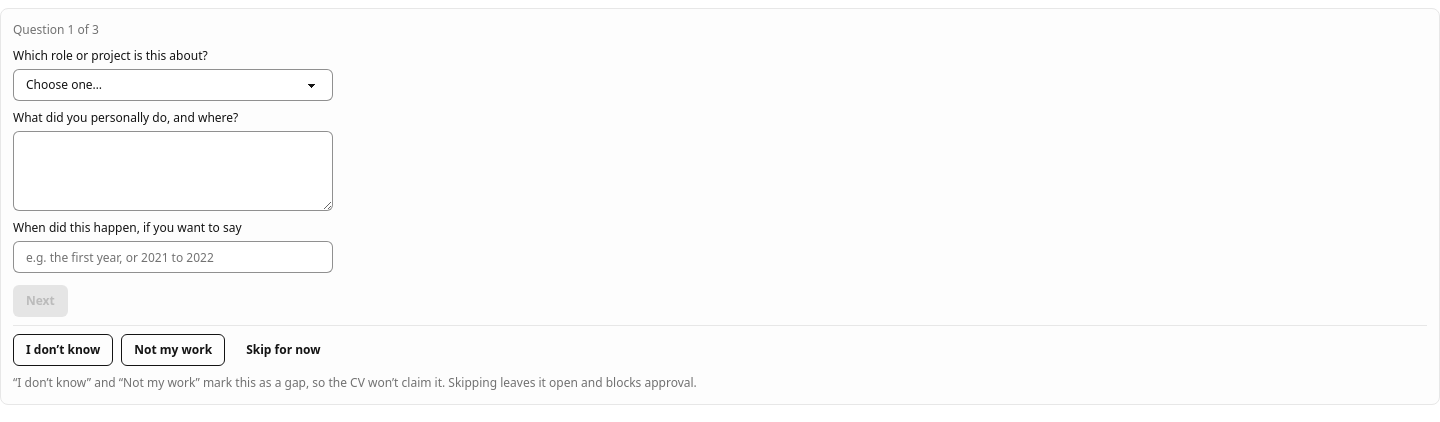
Test: ClarificationForm (#419, step 6) › lets the candidate go back without losing what they typed
Select "Frontend Engineer at Redwood Software" in the dropdown labelled "Which role or project is this about?" at (173, 85), box [13,69,333,101]
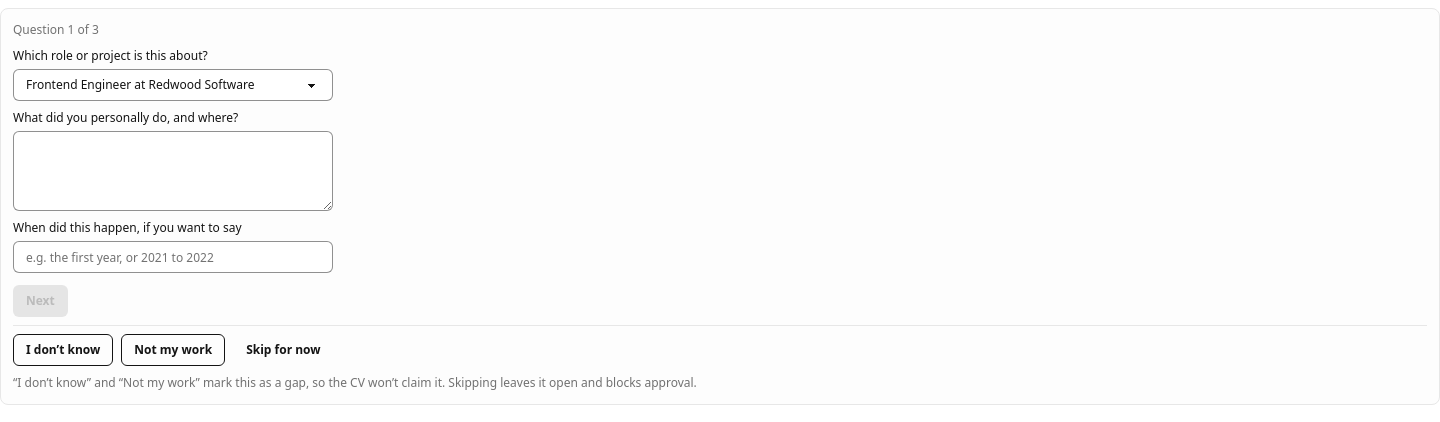
Type "Designed the schema" into the text box labelled "What did you personally do, and where?" at (173, 171), box [13,131,333,211]
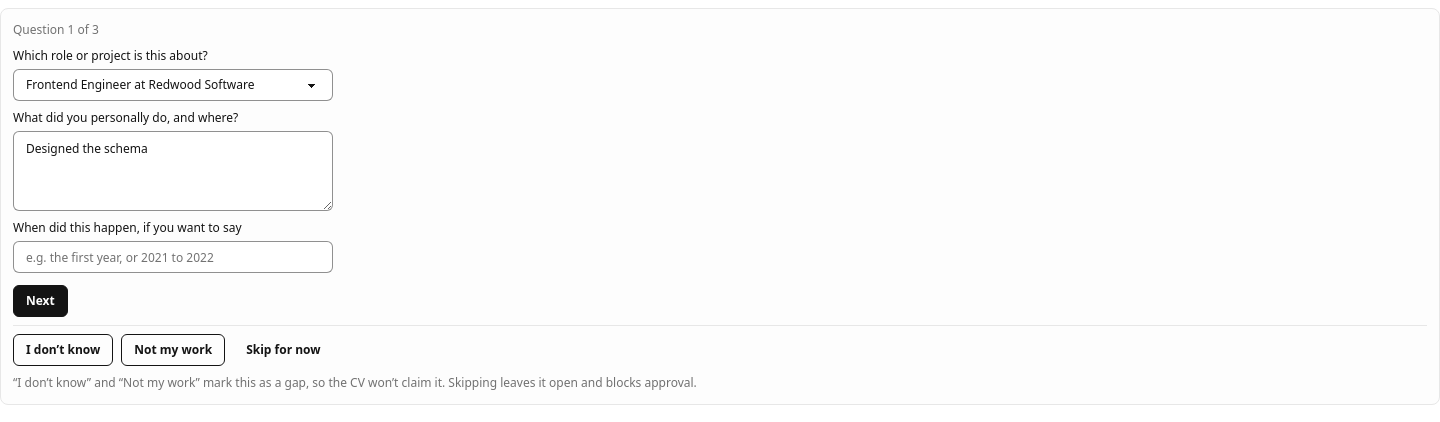
Click the button "Next" at (40, 301), box [13,285,68,317]
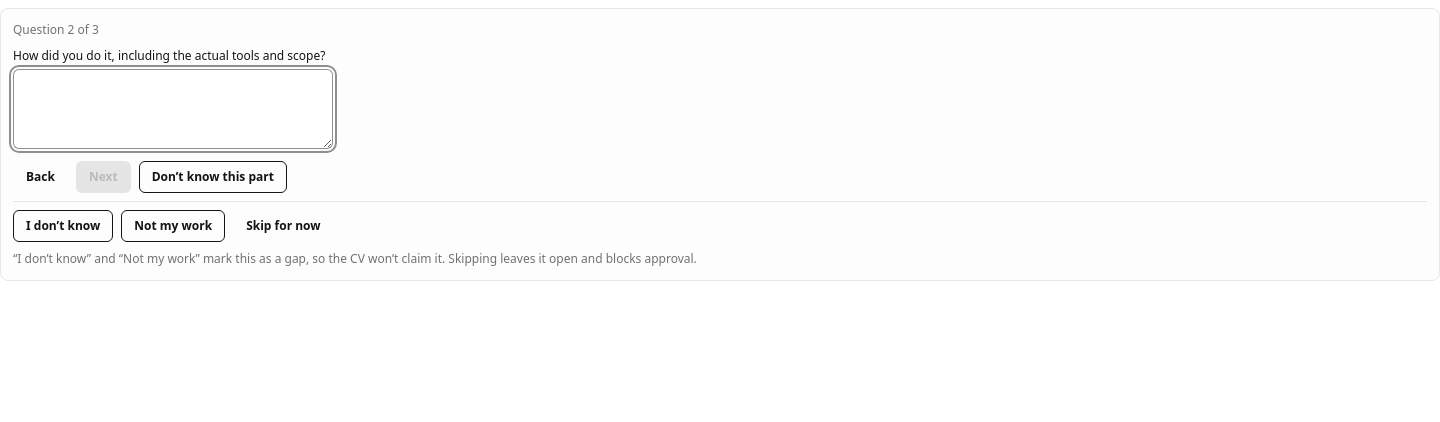
Click the button "Back" at (40, 177), box [13,161,68,193]
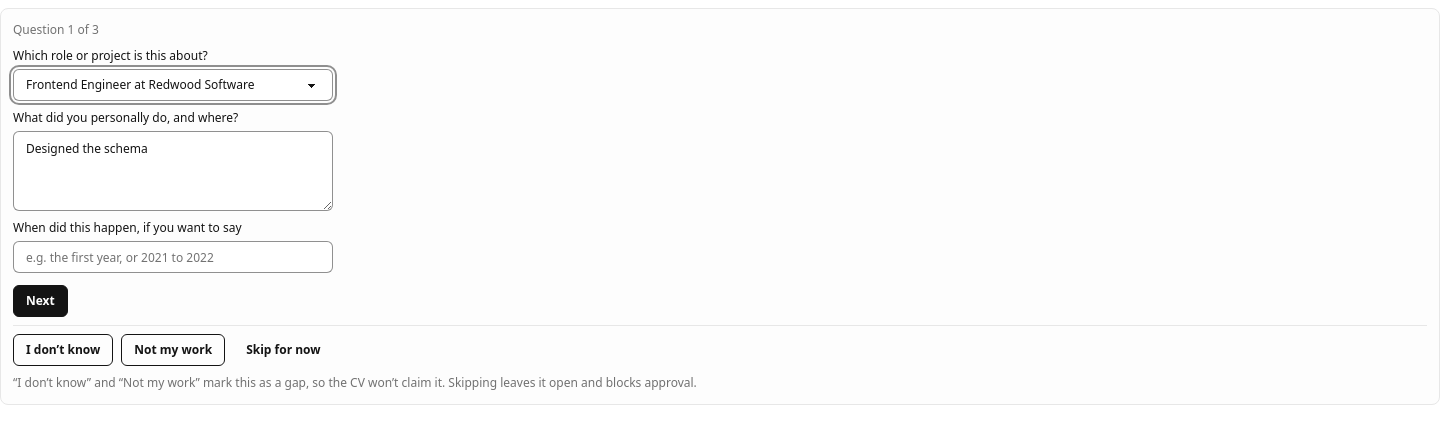
Now the text box labelled "What did you personally do, and where?" holds "Designed the schema", box [13,131,333,211]
